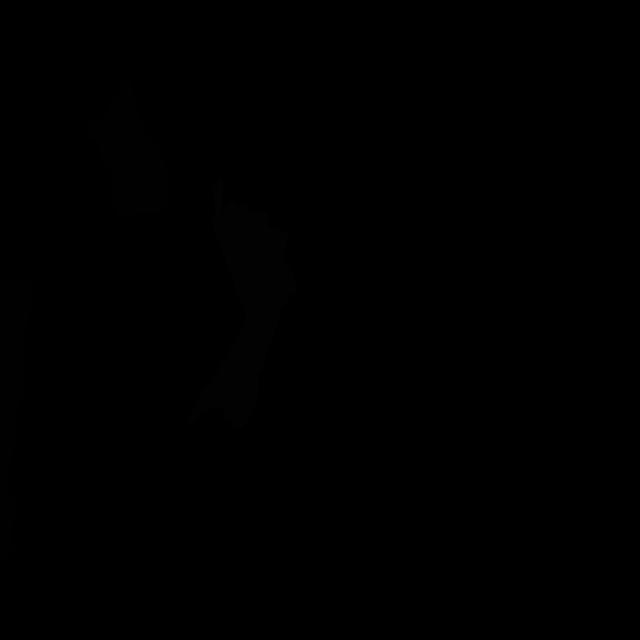cardboard: (186, 176, 298, 429)
rigid_plastic: (88, 78, 172, 217), (0, 278, 34, 561)
